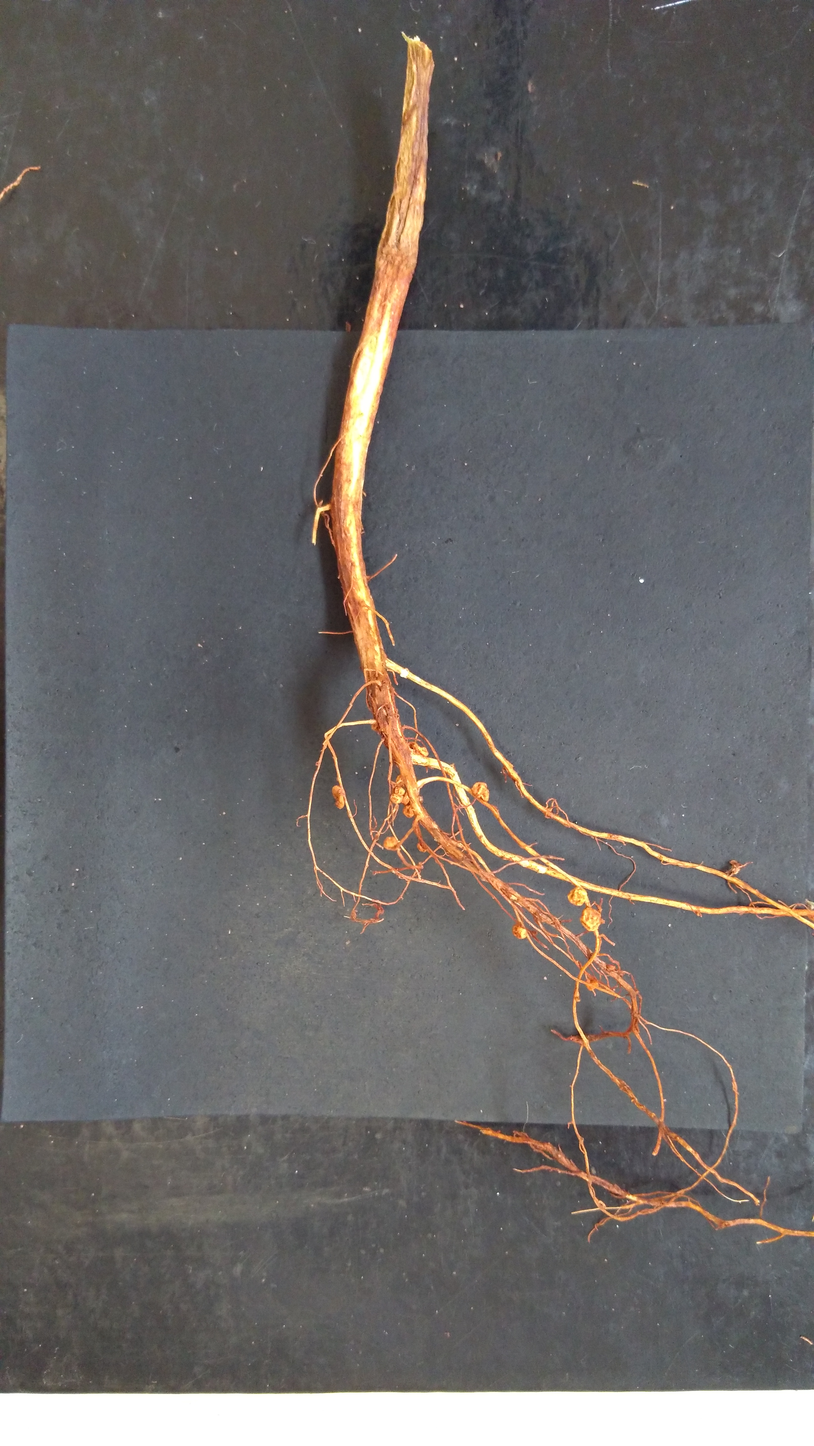nodule: (579, 907, 602, 931), (566, 884, 587, 907), (330, 784, 346, 809), (471, 781, 490, 802), (511, 923, 528, 940), (382, 836, 399, 852), (401, 804, 415, 820), (415, 742, 429, 757), (585, 976, 598, 991), (415, 842, 427, 854), (389, 793, 402, 804), (401, 791, 410, 806), (394, 786, 406, 797)
